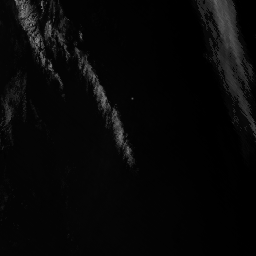Target: (130, 95, 135, 100)
